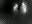person: (22, 2, 28, 16), (13, 4, 19, 16)
